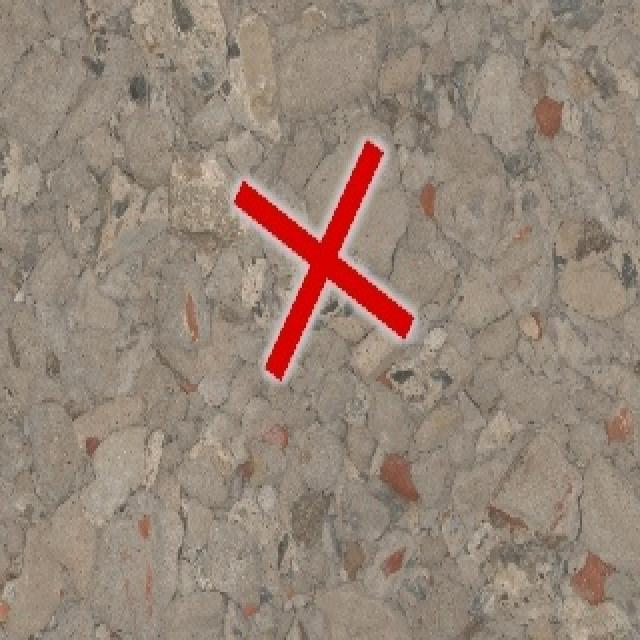x_marker: (233, 140, 413, 377)
